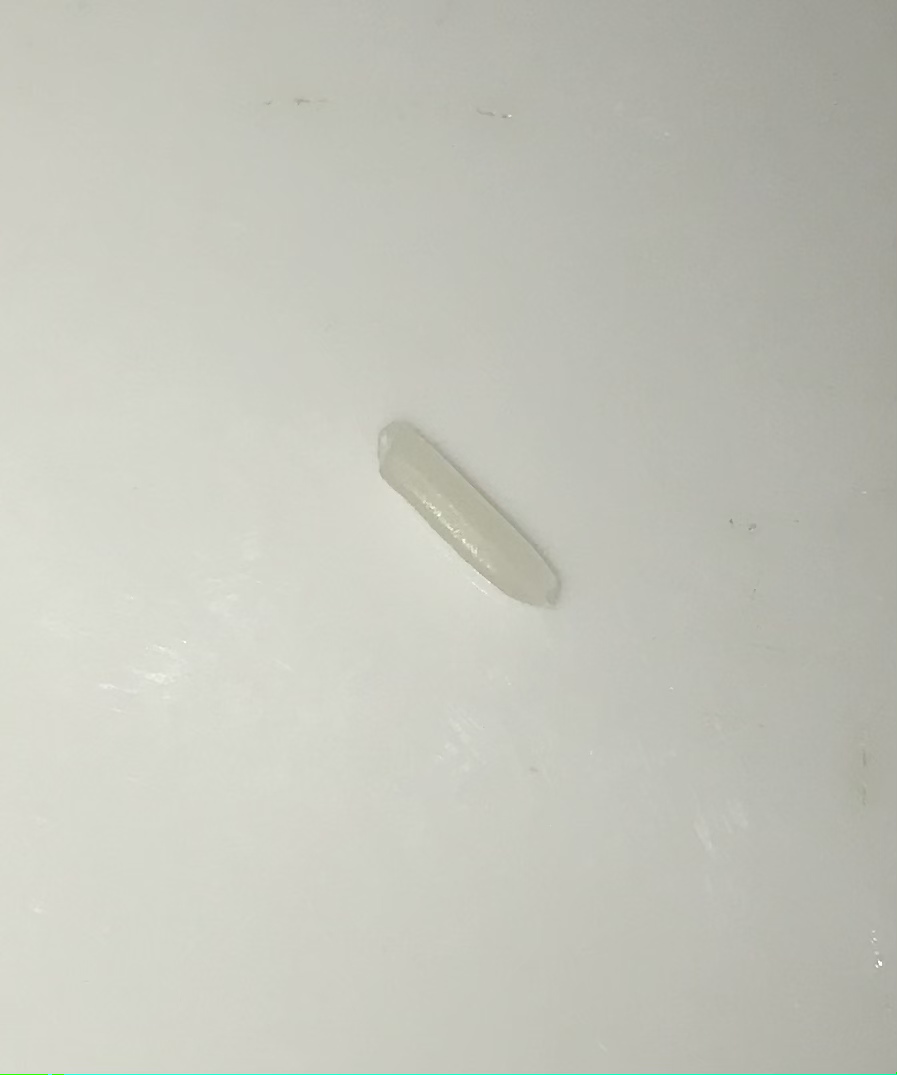Gao Ngoc Troi: (374, 404, 592, 634)
